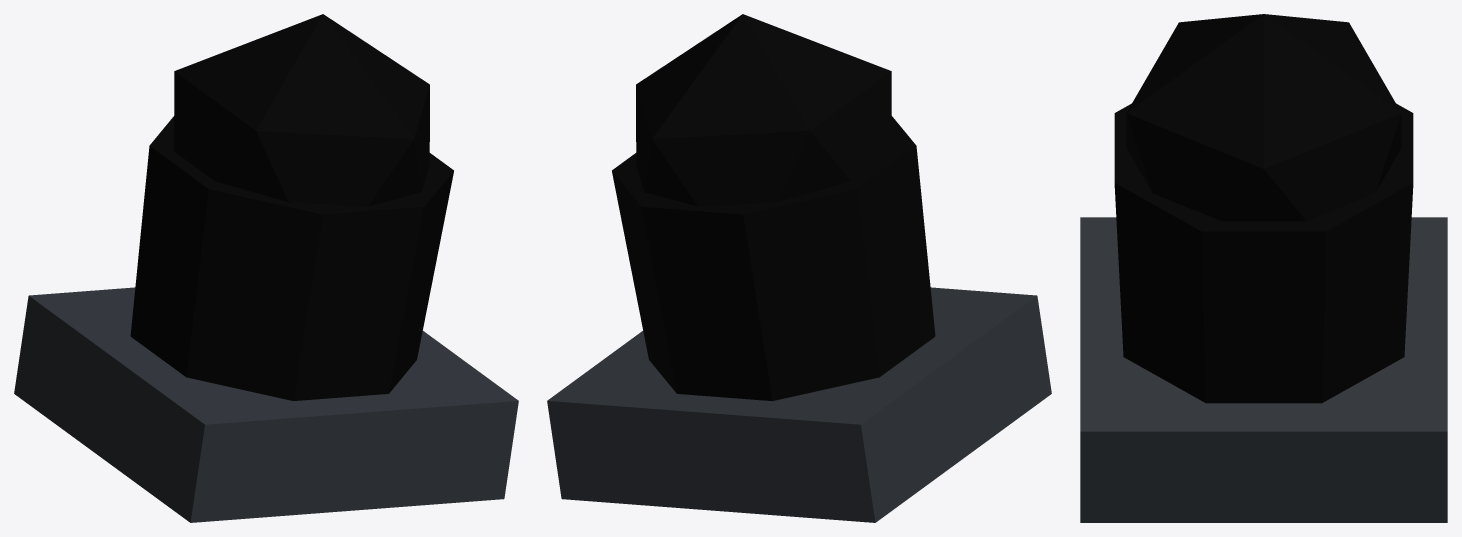
Rendered from inf_driver_lower_leg_r.fbx.
The picture shows the model from 3 angles, left to right: view 1: azimuth 30°, elevation 25°; view 2: azimuth 150°, elevation 25°; view 3: azimuth 270°, elevation 25°; orthographic projection. The views are drawn at different scales.
Parts seen in each view (by area): view 1: inf_driver_lower_leg_r; view 2: inf_driver_lower_leg_r; view 3: inf_driver_lower_leg_r.
Part boxes in pixels (<box>): inf_driver_lower_leg_r: <box>14,14,518,522</box>; inf_driver_lower_leg_r: <box>547,14,1051,522</box>; inf_driver_lower_leg_r: <box>1080,14,1447,522</box>.
Size of the model in its own units: 107 by 139 by 100.
